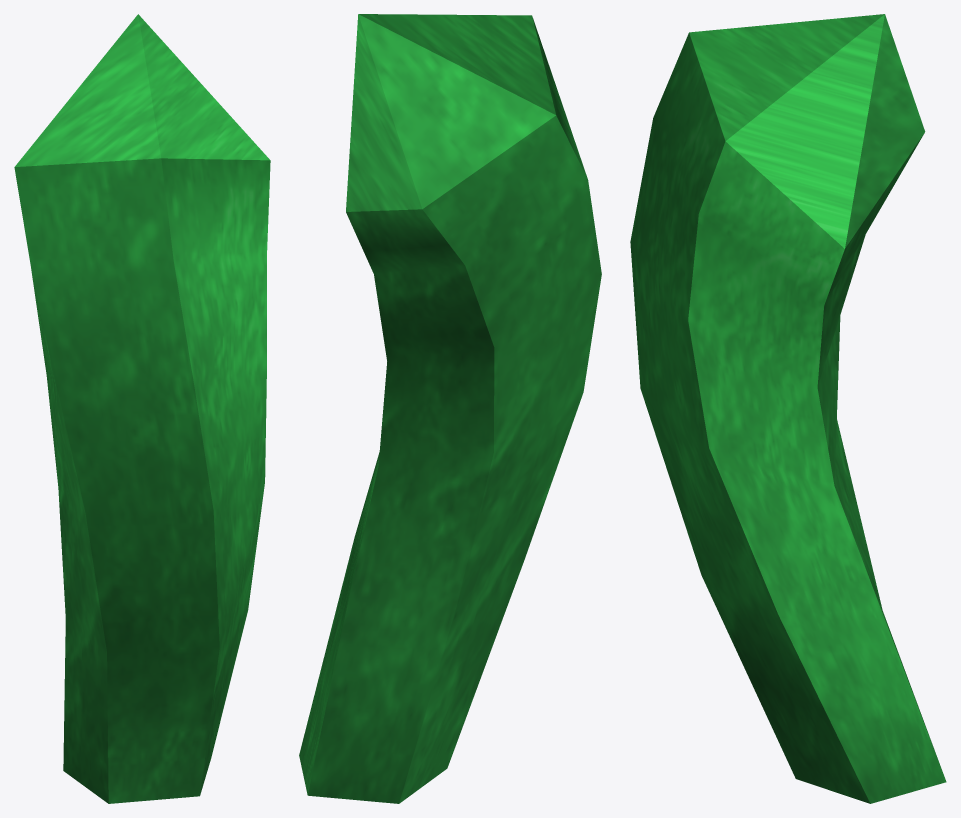
Rendered from Crystal01.FBX.
The picture shows the model from 3 angles, left to right: view 1: azimuth 30°, elevation 25°; view 2: azimuth 150°, elevation 25°; view 3: azimuth 270°, elevation 25°; orthographic projection.
Parts seen in each view (by area): view 1: Crystal01; view 2: Crystal01; view 3: Crystal01.
Part boxes in pixels (x1,y1,x2,y2): Crystal01: [14, 14, 270, 803]; Crystal01: [299, 14, 601, 803]; Crystal01: [630, 14, 946, 803].
Size of the model in its own units: 5.09 by 15.76 by 5.95.
